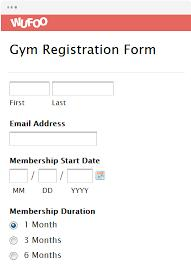radiobutton: (8, 235, 20, 247), (8, 251, 20, 263), (9, 218, 20, 231)
textbox: (6, 167, 94, 187)
